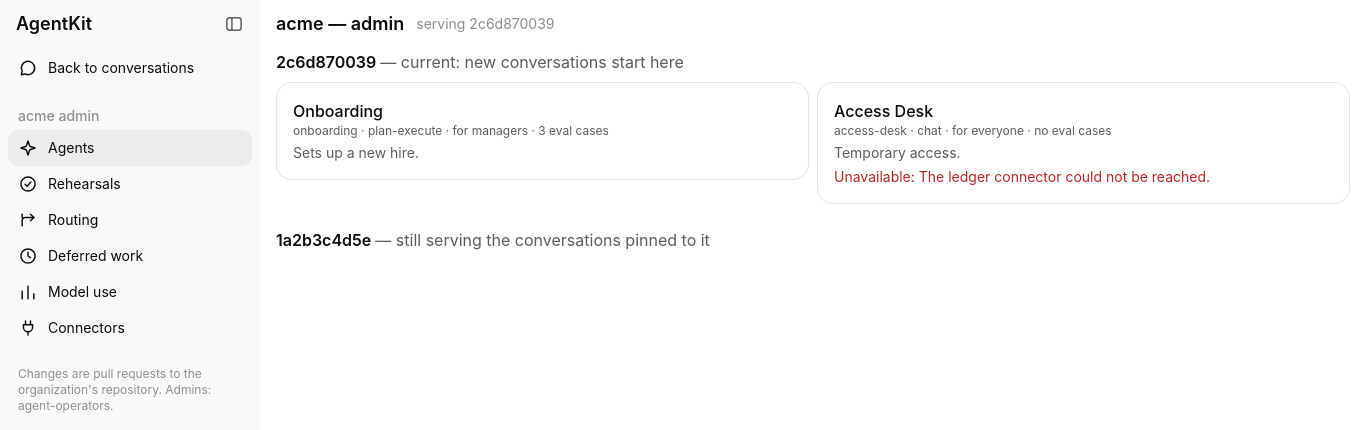
The admin view › shows what each pull request’s rehearsal held, and what an agent would have done
Click the button "Rehearsals" at coordinates (130, 184), box top-left (8, 166), bottom-right (252, 202)
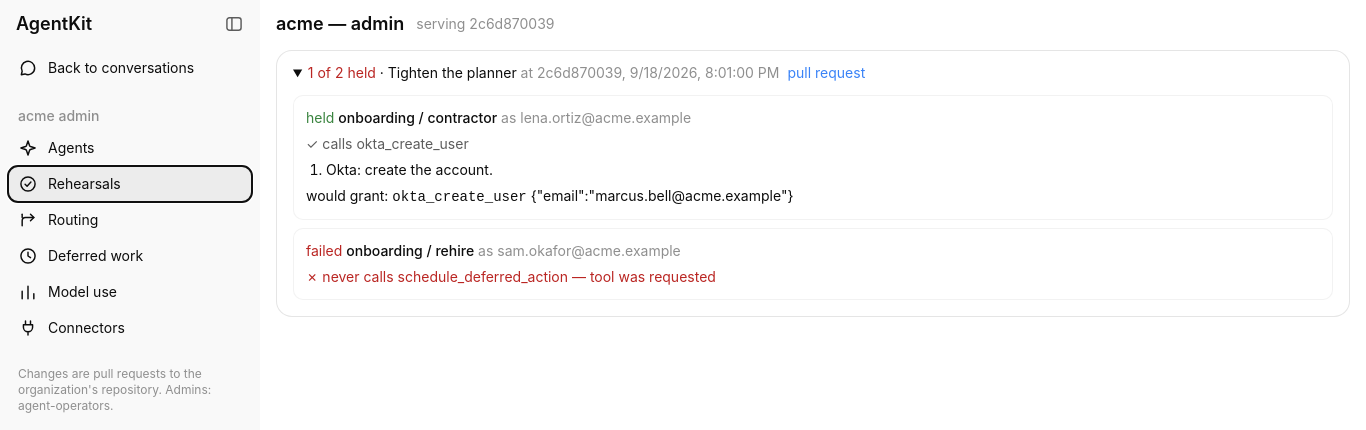
Now the text "1 of 2 held" is shown, box top-left (308, 64), bottom-right (376, 81)
Now the list item with test id "rehearsal-case" shows "would grant: okta_create_user", box top-left (293, 95), bottom-right (1333, 220)
Now the list item with test id "rehearsal-case" shows "✗ never calls schedule_deferred_action — tool was requested", box top-left (293, 228), bottom-right (1333, 300)
